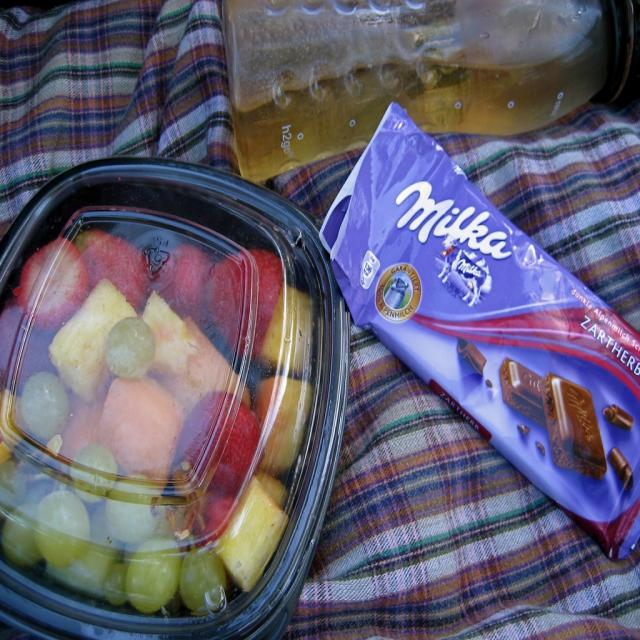milka: (390, 176, 514, 309)
